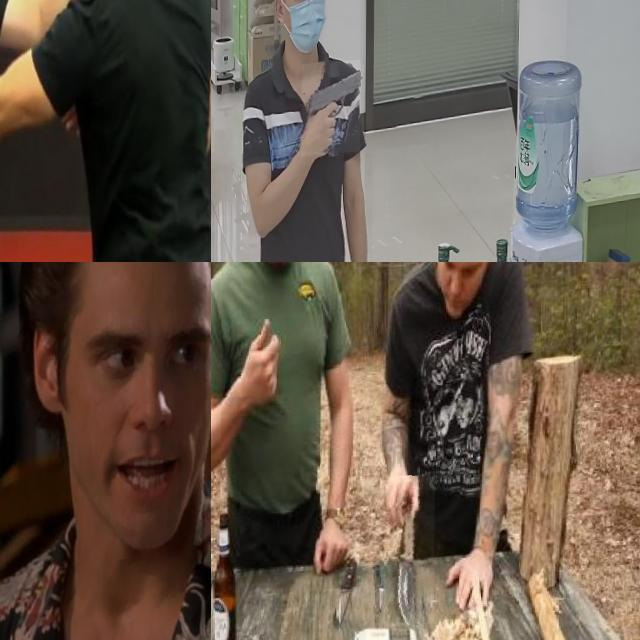-: (384, 481, 436, 634)
gun-knife-thesis - v11 Yolov5 augmented: (302, 65, 361, 161)
